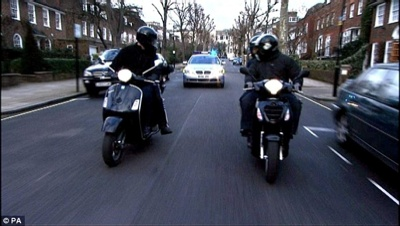helmet: (137, 26, 159, 55), (256, 35, 278, 63)
